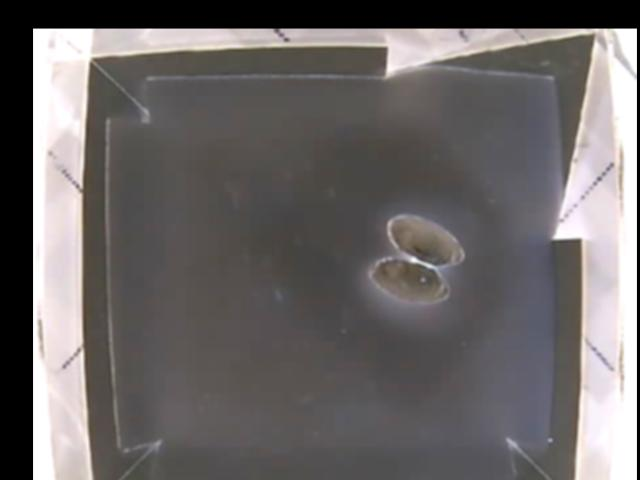Shell: (371, 214, 465, 305)
